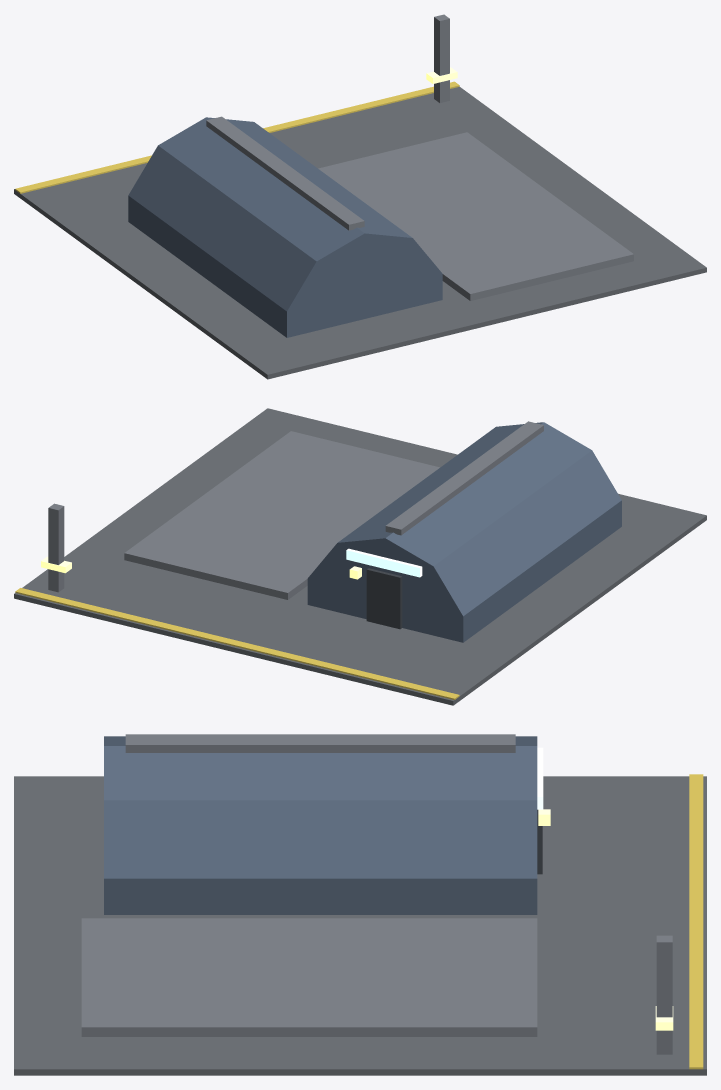
Rendered from zone_low_3_t1.glb.
3 renders of one model, top to bottom at view 1: azimuth 30°, elevation 25°; view 2: azimuth 150°, elevation 25°; view 3: azimuth 270°, elevation 25°, orthographic. The views are drawn at different scales.
Parts seen in each view (by area): view 1: zone_low_3_t1, detail; view 2: zone_low_3_t1, detail; view 3: zone_low_3_t1, detail.
Boxes of the visible parts, x1,y1,x2,y2 form: zone_low_3_t1: (14, 86, 706, 379); detail: (15, 14, 459, 193); zone_low_3_t1: (14, 408, 706, 705); detail: (15, 503, 459, 699); zone_low_3_t1: (14, 734, 706, 1075); detail: (538, 774, 703, 1069).
Size of the model in its own units: 19.6 by 4.05 by 19.6.
